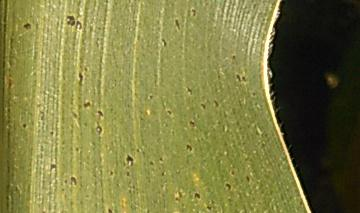tarspot: (65, 14, 76, 29), (94, 118, 103, 136), (75, 69, 84, 85), (125, 154, 134, 167), (183, 142, 193, 153), (173, 18, 180, 32), (69, 175, 77, 187), (22, 22, 32, 31), (96, 108, 105, 118), (48, 162, 57, 172), (234, 73, 242, 84), (186, 86, 194, 97), (212, 98, 220, 109), (75, 19, 82, 31), (223, 182, 232, 191), (198, 102, 208, 110), (160, 37, 167, 47), (82, 101, 92, 108), (147, 159, 155, 167), (190, 7, 196, 17), (241, 74, 247, 84), (245, 174, 251, 184), (165, 109, 173, 116), (20, 122, 28, 129), (193, 192, 201, 199), (172, 196, 181, 202), (188, 120, 195, 127), (229, 169, 236, 176), (250, 91, 257, 98), (231, 54, 237, 62), (108, 169, 114, 177), (74, 145, 80, 153), (158, 156, 164, 163), (125, 170, 131, 177), (146, 94, 154, 99), (160, 170, 165, 178), (49, 129, 54, 137), (106, 207, 112, 213), (215, 74, 221, 80), (205, 205, 212, 210), (144, 207, 149, 213), (104, 1, 110, 5)
